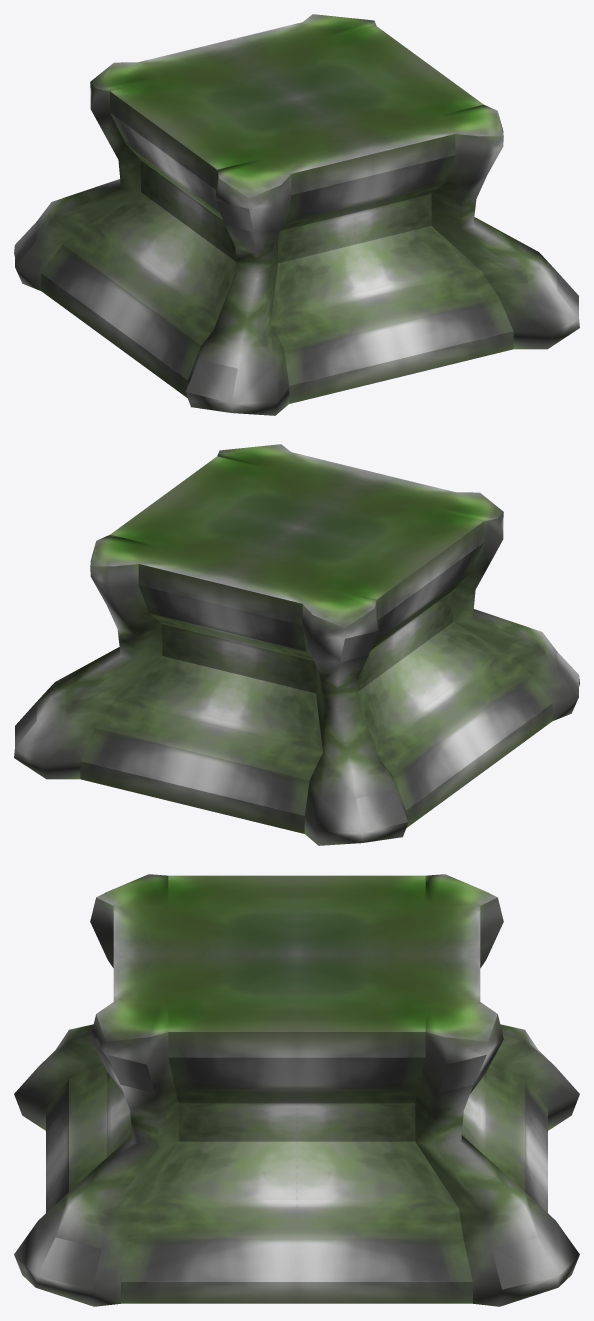
File: Pilar2.gltf
The picture shows the model from 3 angles, top to bottom: view 1: azimuth 30°, elevation 25°; view 2: azimuth 150°, elevation 25°; view 3: azimuth 270°, elevation 25°; orthographic projection. The views are drawn at different scales.
Parts seen in each view (by area): view 1: Cube; view 2: Cube; view 3: Cube.
Part boxes in pixels (bbox=[...]): Cube: bbox=[14, 14, 579, 415]; Cube: bbox=[14, 444, 579, 845]; Cube: bbox=[14, 874, 579, 1306].
Size of the model in its own units: 4.6 by 2.26 by 4.77.
1 material, 1 textured.
